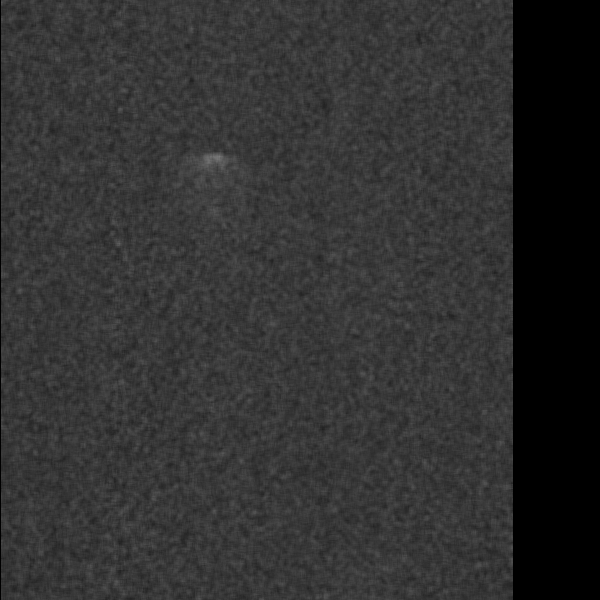spark: (189, 146, 228, 184)
